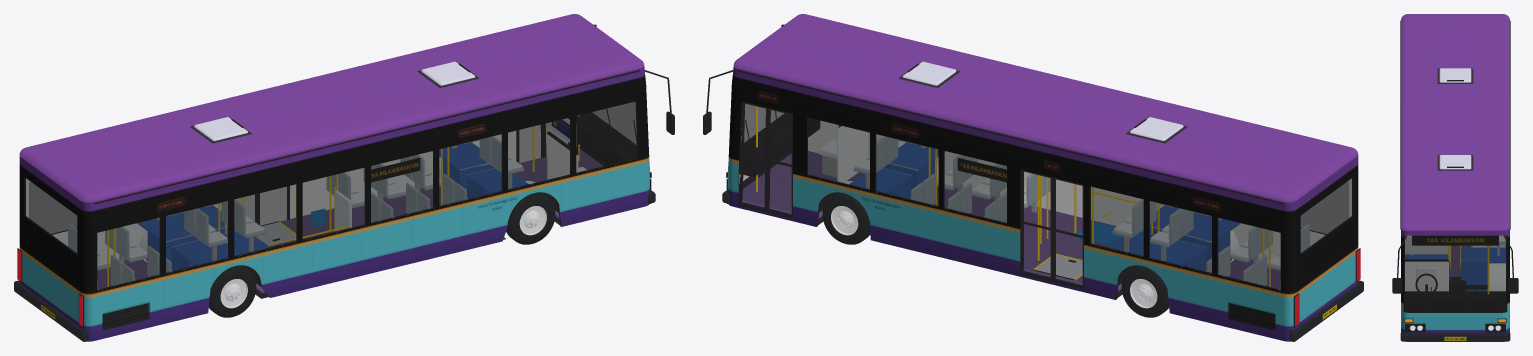
Rendered from lowfloor-purple-2024.glb.
3 renders of one model, left to right at view 1: azimuth 30°, elevation 25°; view 2: azimuth 150°, elevation 25°; view 3: azimuth 270°, elevation 25°, orthographic. The views are drawn at different scales.
Parts seen in each view (by area): view 1: lowfloor-purple-2024_Body, lowfloor-purple-2024_Glass, lowfloor-purple-2024_Wheel_Front_L; view 2: lowfloor-purple-2024_Body, lowfloor-purple-2024_Glass, lowfloor-purple-2024_Wheel_Front_L; view 3: lowfloor-purple-2024_Body, lowfloor-purple-2024_Glass.
Boxes of the visible parts, x1,y1,x2,y2 form: lowfloor-purple-2024_Body: (14, 14, 674, 341); lowfloor-purple-2024_Glass: (25, 101, 638, 289); lowfloor-purple-2024_Wheel_Front_L: (146, 192, 555, 317); lowfloor-purple-2024_Body: (703, 14, 1363, 341); lowfloor-purple-2024_Glass: (741, 103, 1352, 289); lowfloor-purple-2024_Wheel_Front_L: (822, 192, 1231, 317); lowfloor-purple-2024_Body: (1392, 14, 1518, 341); lowfloor-purple-2024_Glass: (1404, 235, 1506, 312).
Size of the model in its own units: 12.41 by 3.26 by 2.95.
11 materials, 11 textured.
